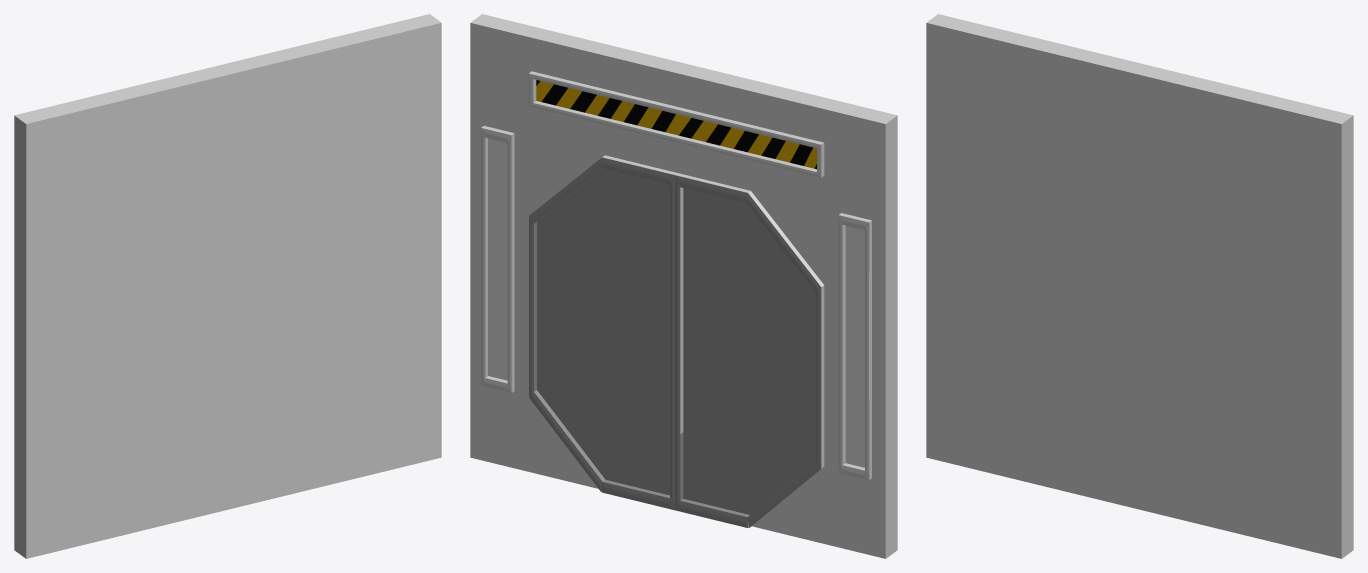
Rendered from CorridorEndWall.fbx.
The picture shows the model from 3 angles, left to right: view 1: azimuth 30°, elevation 25°; view 2: azimuth 150°, elevation 25°; view 3: azimuth 330°, elevation 25°; orthographic projection.
Visible parts, largest first — view 1: Wall Back; view 2: Wall Back; view 3: Wall Back.
Boxes of the visible parts, x1=… form: Wall Back: x1=14, y1=14, x2=441, y2=558; Wall Back: x1=470, y1=14, x2=897, y2=558; Wall Back: x1=926, y1=14, x2=1353, y2=558.
Size of the model in its own units: 400 by 400 by 25.
